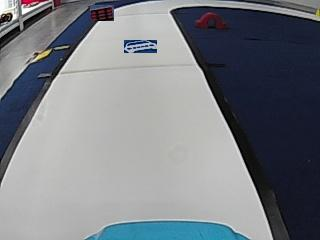bridge: (195, 12, 227, 28)
